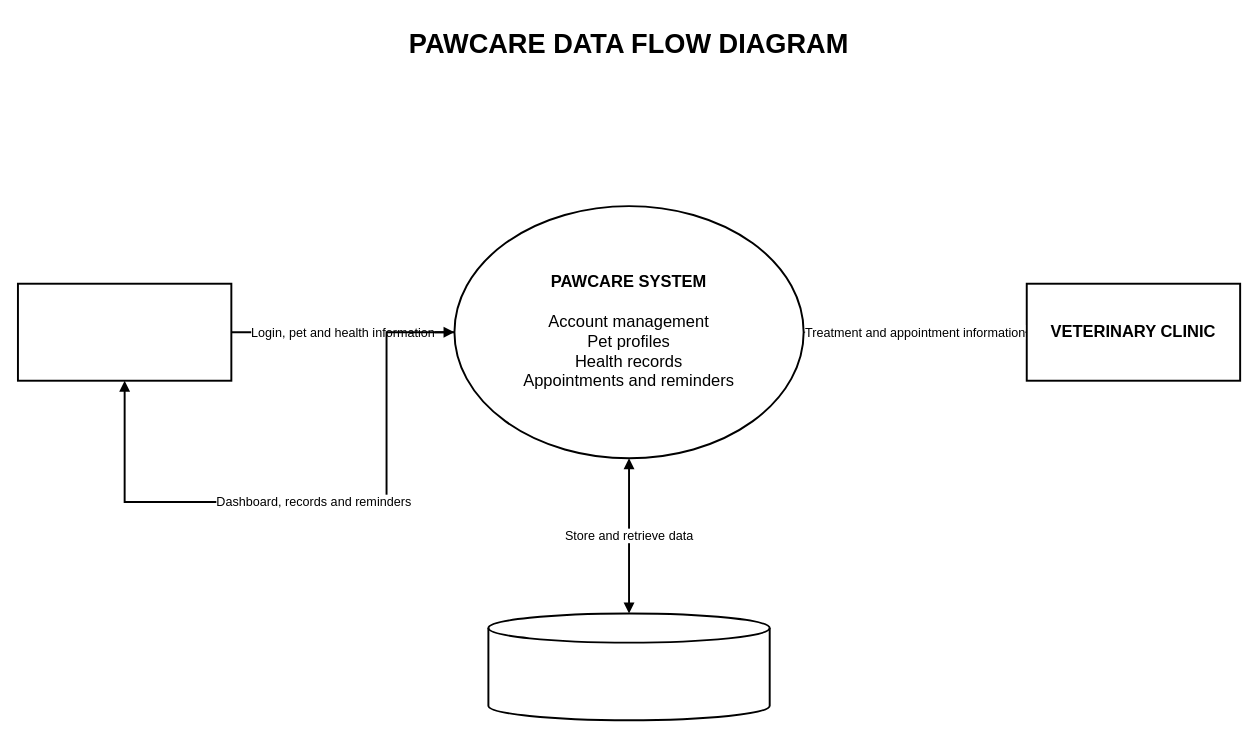
Image size: 1257x737. Some labels were removed from this diagram. The shapes that lost their labels are listed below. From the top down, each one's box as (x1, y1, x2, y2) in pixels, then its label:
(16, 282, 232, 381): PET OWNER
(487, 612, 770, 721): PAWCARE DATABASE Users, pets, health records and appointments
